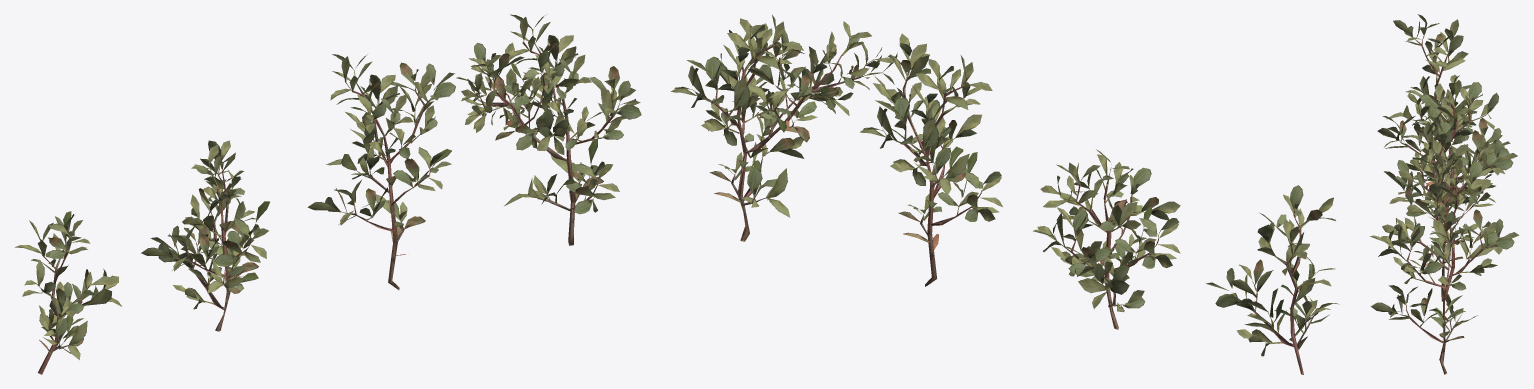
Rendered from shrub_04.glb.
The picture shows the model from 3 angles, left to right: view 1: azimuth 30°, elevation 25°; view 2: azimuth 150°, elevation 25°; view 3: azimuth 270°, elevation 25°; orthographic projection. The views are drawn at different scales.
Parts seen in each view (by area): view 1: Prop; view 2: Prop; view 3: Prop.
Part boxes in pixels (x1,y1,x2,y2): Prop: (15,14,641,374); Prop: (671,14,1338,374); Prop: (1370,14,1519,374).
Size of the model in its own units: 0.5832 by 0.2189 by 0.1457.
1 material, 1 textured.
